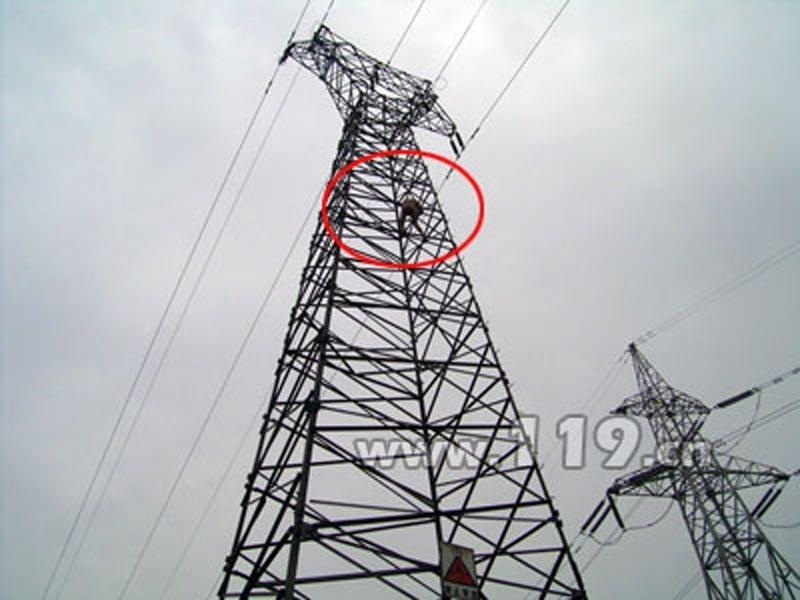power_tower: (247, 30, 573, 594), (615, 334, 787, 592)
